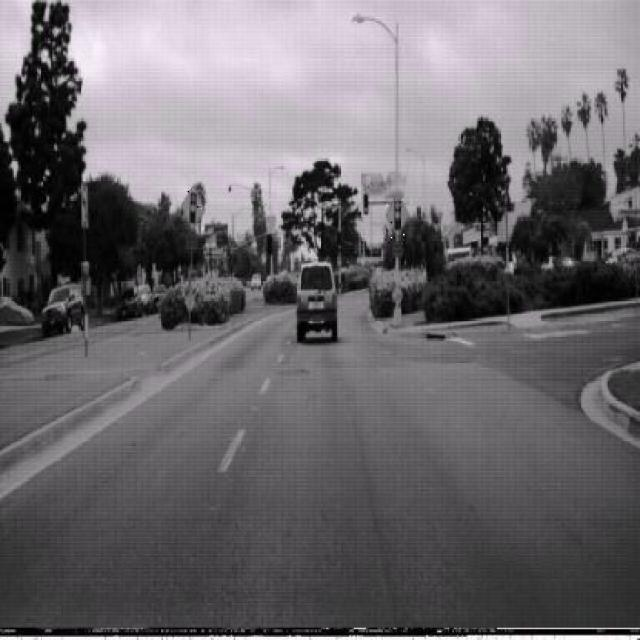signalAhead: (180, 182, 205, 232), (385, 190, 409, 240)
